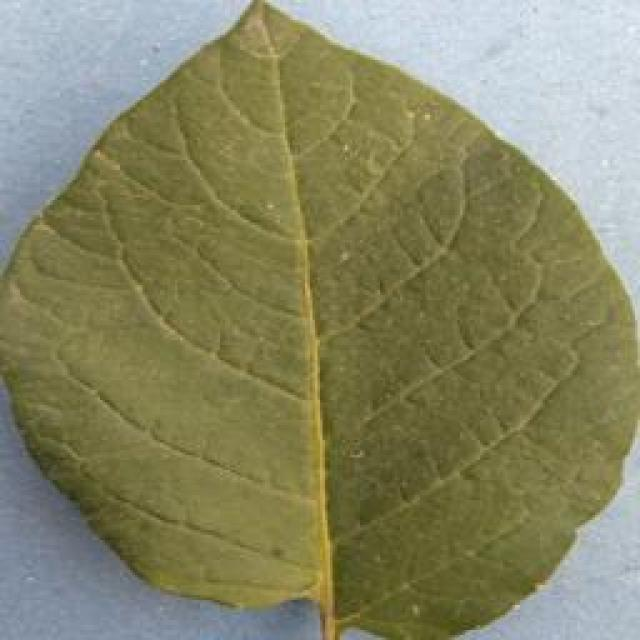Potato_Healthy: (5, 13, 628, 629)
